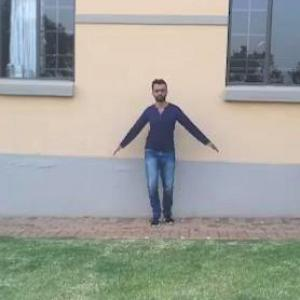land: (113, 82, 216, 239)
